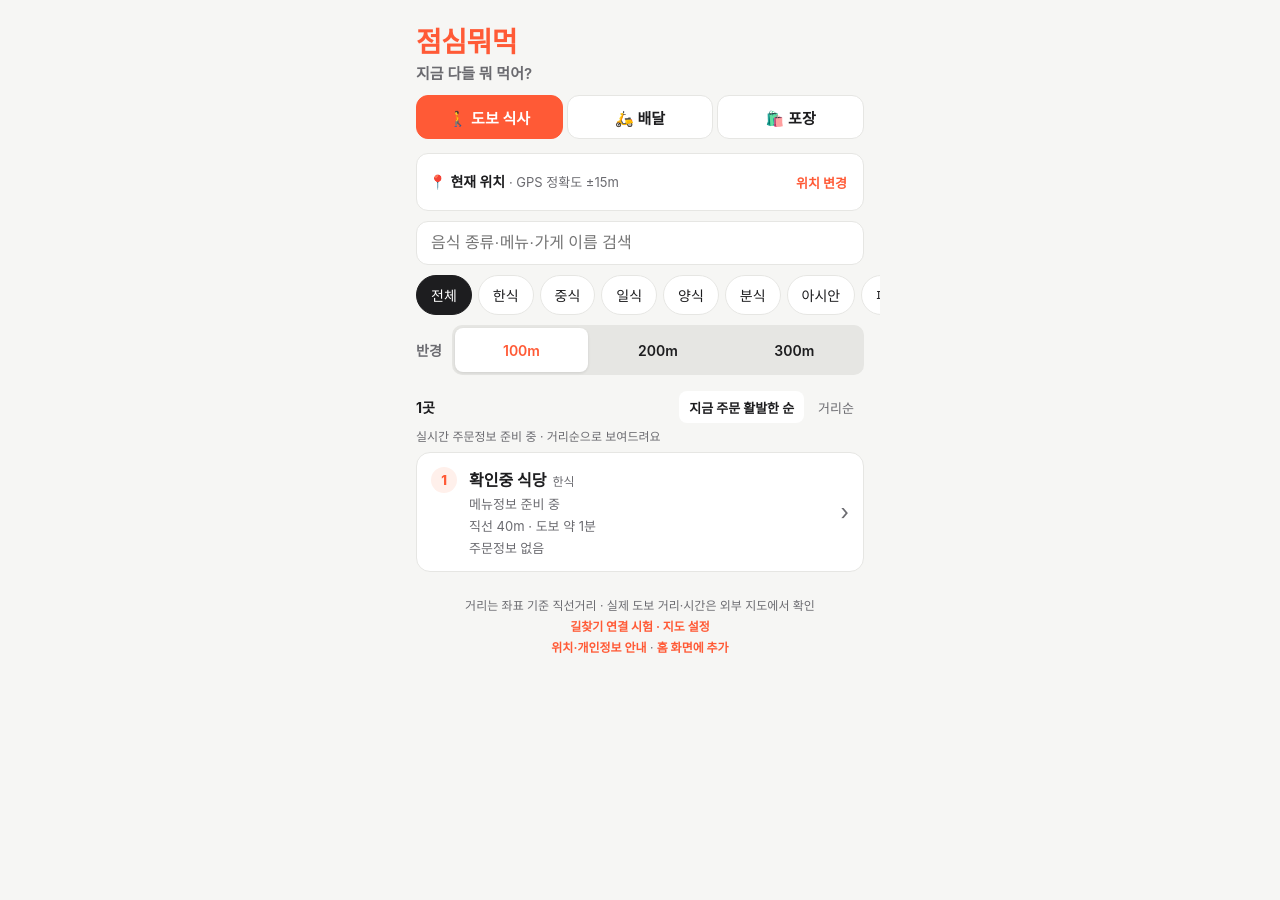
8단계 — 시범 서비스 점검 › 관리자가 ‘정보 확인 필요’로 둔 매장은 상세화면에 표시한다
Click the button "1 확인중 식당 한식 메뉴정보 준비 중 직선 40m · 도보 약 1분 주문정보 없음 ›" at [508, 480], box x1=417 y1=453 x2=863 y2=571
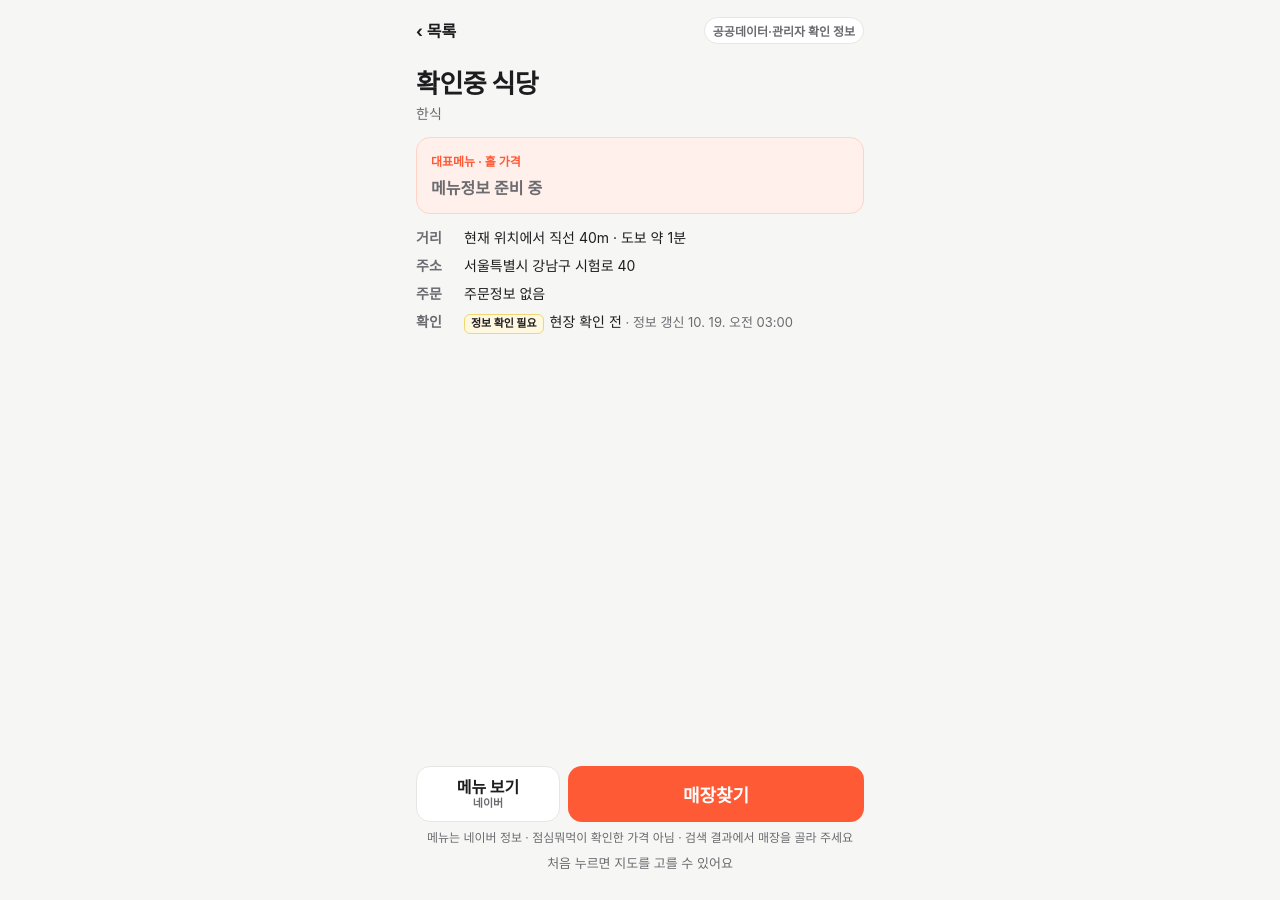
Check: the dialog named "상세정보" shows "정보 확인 필요", box x1=471 y1=316 x2=536 y2=330
